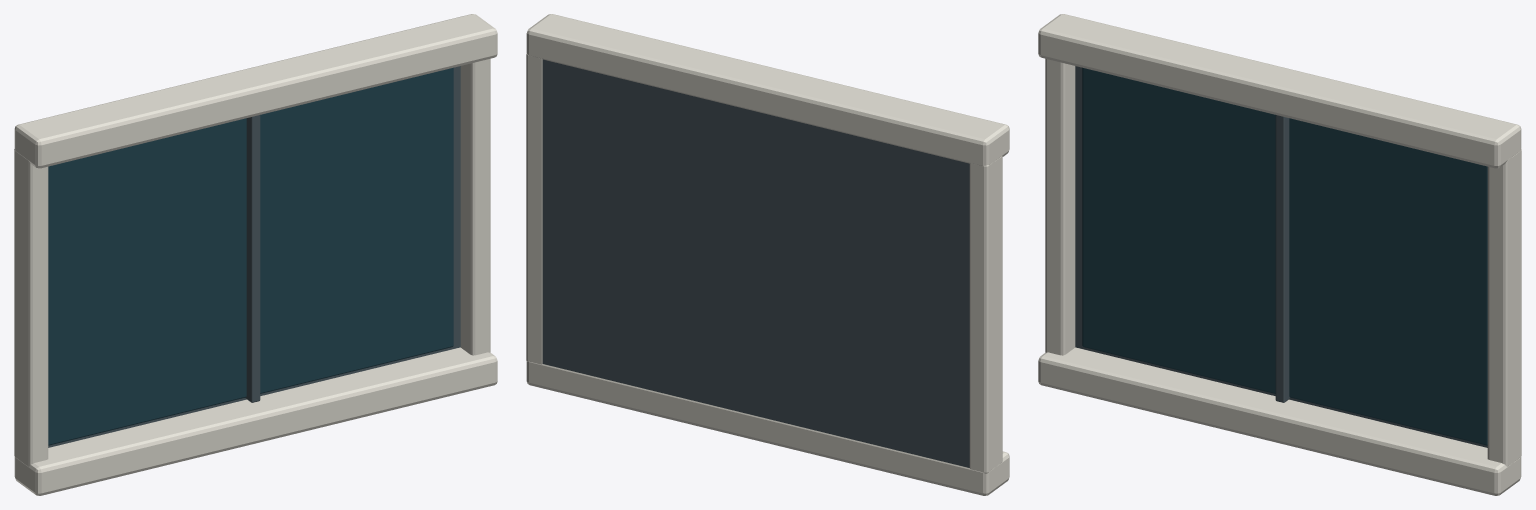
Rendered from FacadeBay.fbx.
The picture shows the model from 3 angles, left to right: view 1: azimuth 30°, elevation 25°; view 2: azimuth 150°, elevation 25°; view 3: azimuth 330°, elevation 25°; orthographic projection.
Visible parts, largest first — view 1: FacadeBay_SC_Glass, FacadeBay_SC_Concrete, FacadeBay_SC_Metal; view 2: FacadeBay_SC_Metal, FacadeBay_SC_Concrete; view 3: FacadeBay_SC_Glass, FacadeBay_SC_Concrete, FacadeBay_SC_Metal.
Part boxes in pixels (left/top/right/bottom): FacadeBay_SC_Glass: left=48, top=67, right=453, bottom=445; FacadeBay_SC_Concrete: left=14, top=14, right=497, bottom=495; FacadeBay_SC_Metal: left=48, top=66, right=460, bottom=447; FacadeBay_SC_Metal: left=542, top=59, right=969, bottom=467; FacadeBay_SC_Concrete: left=526, top=14, right=1009, bottom=495; FacadeBay_SC_Glass: left=1082, top=67, right=1487, bottom=445; FacadeBay_SC_Concrete: left=1038, top=14, right=1521, bottom=495; FacadeBay_SC_Metal: left=1075, top=66, right=1487, bottom=447.
Bounding box in the file's own units: 2.82 × 2.08 × 0.26.
